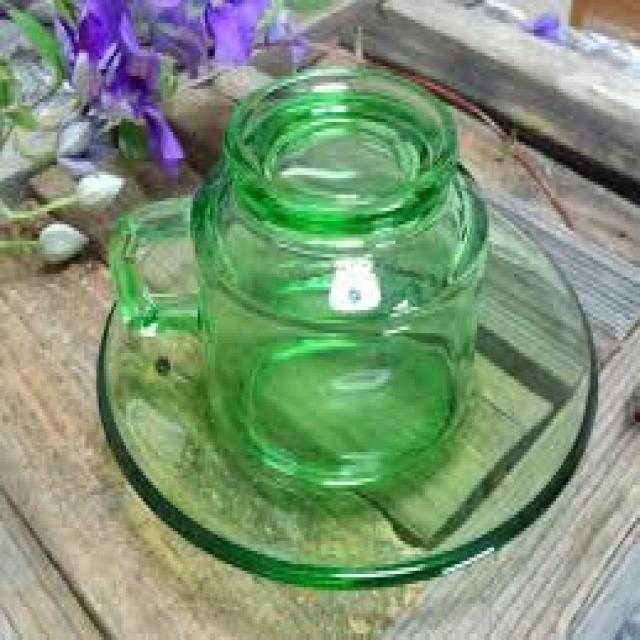organic waste: (14, 2, 132, 148), (151, 0, 309, 69), (32, 215, 84, 258), (76, 165, 118, 204), (519, 0, 561, 33)
